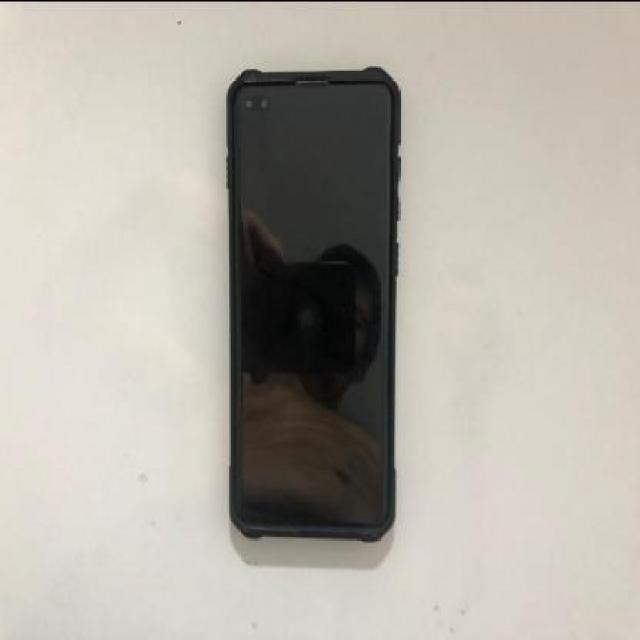phone: (227, 66, 401, 540)
